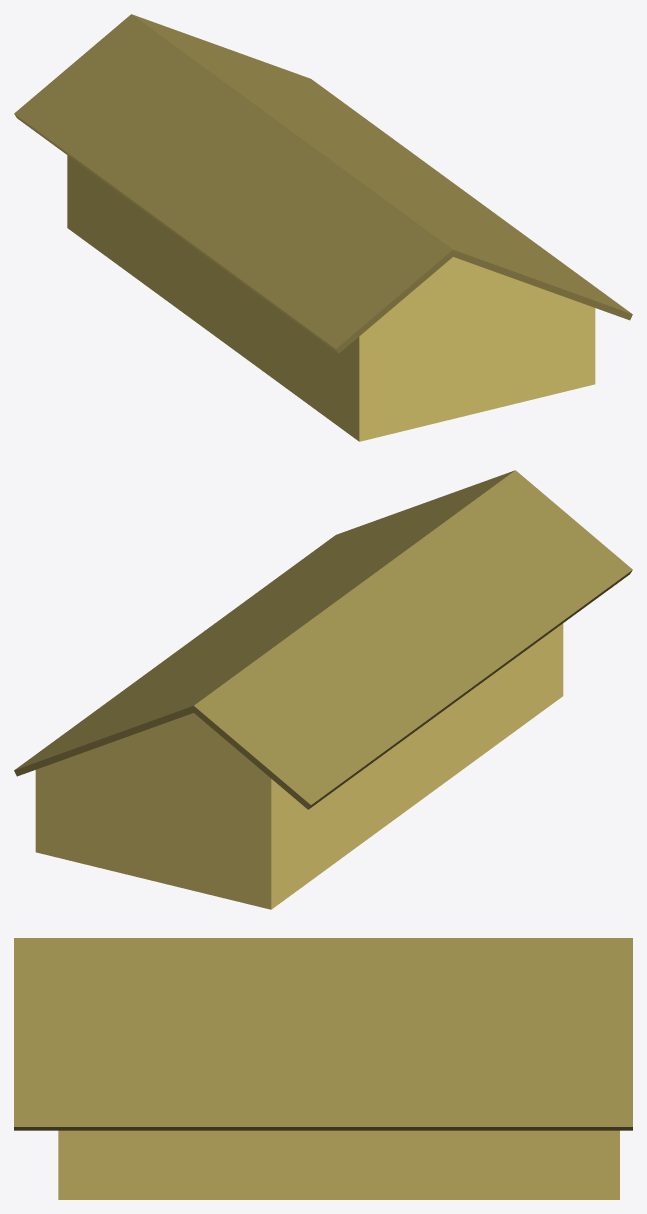
The model's file is result.glb.
3 renders of one model, top to bottom at view 1: azimuth 30°, elevation 25°; view 2: azimuth 150°, elevation 25°; view 3: azimuth 270°, elevation 25°, orthographic. The views are drawn at different scales.
Parts seen in each view (by area): view 1: 83fd0878-eb7f-4f14-80cb-5ba13f862bd1__undefined (×2), 8e1db4ef-1b74-441c-b280-45add1572530__undefined; view 2: 83fd0878-eb7f-4f14-80cb-5ba13f862bd1__undefined (×2), 8e1db4ef-1b74-441c-b280-45add1572530__undefined; view 3: 83fd0878-eb7f-4f14-80cb-5ba13f862bd1__undefined, 8e1db4ef-1b74-441c-b280-45add1572530__undefined.
Part boxes in pixels (<box>): 83fd0878-eb7f-4f14-80cb-5ba13f862bd1__undefined (×2): <box>14,14,632,353</box>; 8e1db4ef-1b74-441c-b280-45add1572530__undefined: <box>67,155,595,441</box>; 83fd0878-eb7f-4f14-80cb-5ba13f862bd1__undefined (×2): <box>14,470,632,809</box>; 8e1db4ef-1b74-441c-b280-45add1572530__undefined: <box>35,623,563,909</box>; 83fd0878-eb7f-4f14-80cb-5ba13f862bd1__undefined: <box>14,938,632,1130</box>; 8e1db4ef-1b74-441c-b280-45add1572530__undefined: <box>58,1130,619,1199</box>.
Size of the model in its own units: 1258 by 776 by 2360.
